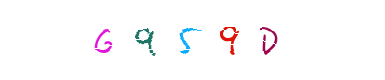5: (145, 0, 225, 80)
9: (106, 0, 186, 80), (152, 0, 232, 80)
D: (206, 0, 286, 80)
G: (105, 0, 185, 80)
